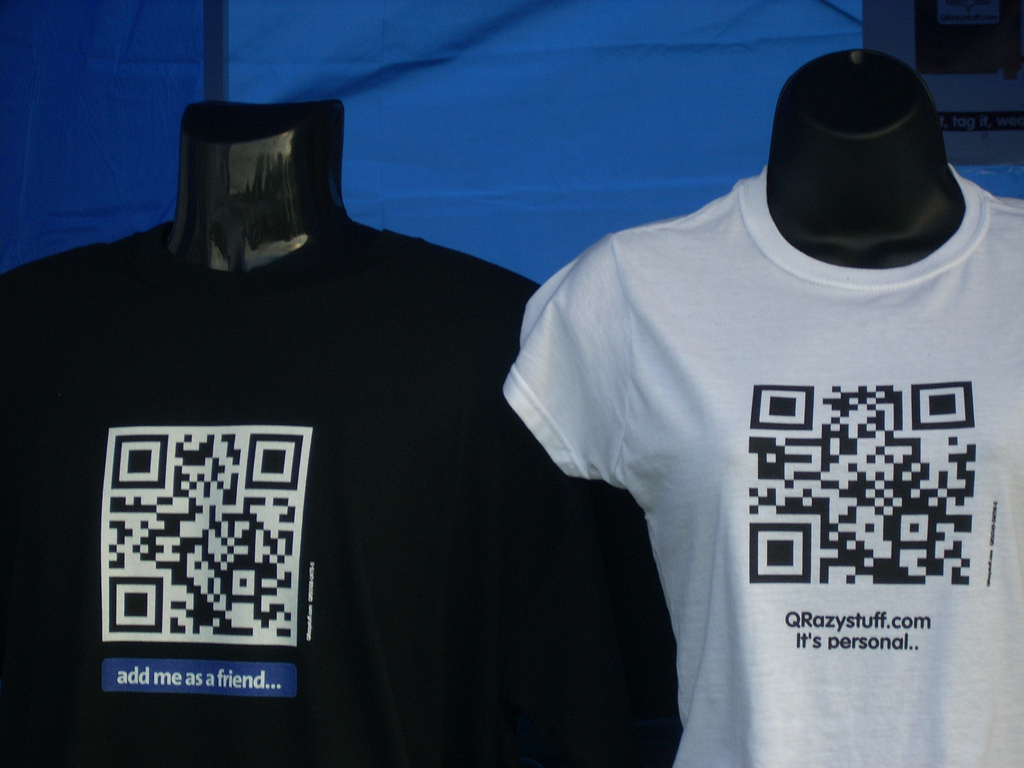QR-CODE: (749, 380, 975, 585), (109, 433, 303, 637)
